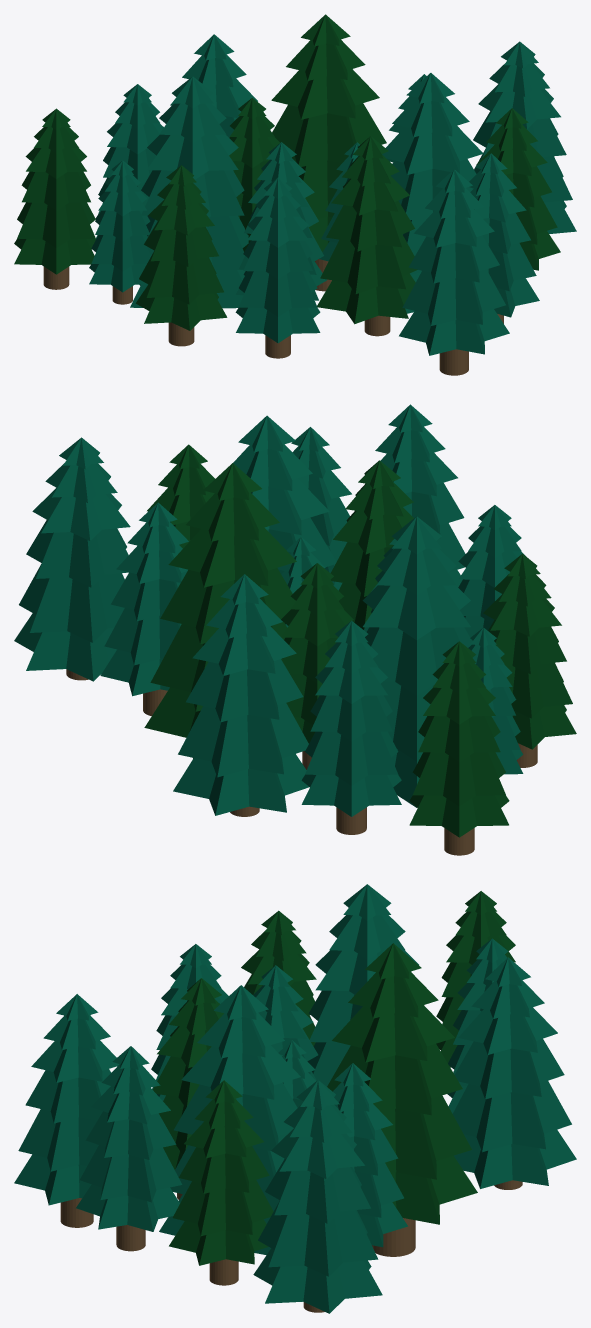
File: forest2.glb
The picture shows the model from 3 angles, top to bottom: view 1: azimuth 30°, elevation 25°; view 2: azimuth 150°, elevation 25°; view 3: azimuth 270°, elevation 25°; orthographic projection. The views are drawn at different scales.
Parts seen in each view (by area): view 1: Cylinder.035, Cylinder.027, Cylinder.031, Cylinder.001, Cylinder.013, Cylinder.017, Cylinder.009, Cylinder.019, Cylinder.025, Cylinder.033, Cylinder.011, Cylinder.023 (+10 smaller); view 2: Cylinder.007, Cylinder.025, Cylinder.027, Cylinder.001, Cylinder.003, Cylinder.009, Cylinder.013, Cylinder.021, Cylinder.031, Cylinder.019, Cylinder.035, Cylinder.005 (+7 smaller); view 3: Cylinder.027, Cylinder.025, Cylinder.007, Cylinder.033, Cylinder.035, Cylinder.023, Cylinder.019, Cylinder.001, Cylinder.021, Cylinder.031, Cylinder.009, Cylinder.013 (+8 smaller).
Part boxes in pixels (left/top/right/bottom): Cylinder.035: left=399, top=169, right=509, bottom=355; Cylinder.027: left=271, top=14, right=386, bottom=251; Cylinder.031: left=317, top=136, right=417, bottom=324; Cylinder.001: left=130, top=76, right=248, bottom=308; Cylinder.013: left=135, top=165, right=227, bottom=330; Cylinder.017: left=235, top=177, right=320, bottom=343; Cylinder.009: left=14, top=108, right=95, bottom=274; Cylinder.019: left=382, top=73, right=483, bottom=313; Cylinder.025: left=473, top=41, right=576, bottom=233; Cylinder.033: left=469, top=153, right=539, bottom=317; Cylinder.011: left=89, top=160, right=150, bottom=292; Cylinder.023: left=476, top=108, right=560, bottom=270; Cylinder.007: left=173, top=574, right=309, bottom=815; Cylinder.025: left=14, top=437, right=130, bottom=681; Cylinder.027: left=144, top=463, right=296, bottom=758; Cylinder.001: left=362, top=516, right=472, bottom=807; Cylinder.003: left=301, top=620, right=401, bottom=816; Cylinder.009: left=409, top=641, right=509, bottom=837; Cylinder.013: left=483, top=553, right=576, bottom=749; Cylinder.021: left=100, top=502, right=188, bottom=696; Cylinder.031: left=330, top=460, right=413, bottom=629; Cylinder.019: left=233, top=415, right=336, bottom=574; Cylinder.035: left=375, top=404, right=465, bottom=587; Cylinder.005: left=281, top=563, right=353, bottom=743; Cylinder.027: left=327, top=943, right=477, bottom=1224; Cylinder.025: left=253, top=1080, right=382, bottom=1313; Cylinder.007: left=453, top=957, right=576, bottom=1188; Cylinder.033: left=76, top=1046, right=182, bottom=1231; Cylinder.035: left=14, top=994, right=119, bottom=1205; Cylinder.023: left=169, top=1080, right=273, bottom=1265; Cylinder.019: left=159, top=985, right=300, bottom=1254; Cylinder.001: left=307, top=884, right=418, bottom=1086; Cylinder.021: left=333, top=1063, right=407, bottom=1247; Cylinder.031: left=153, top=978, right=223, bottom=1169; Cylinder.009: left=436, top=891, right=515, bottom=1067; Cylinder.013: left=241, top=910, right=316, bottom=1046.
Size of the model in its own units: 1.09 by 0.5755 by 0.9644.
